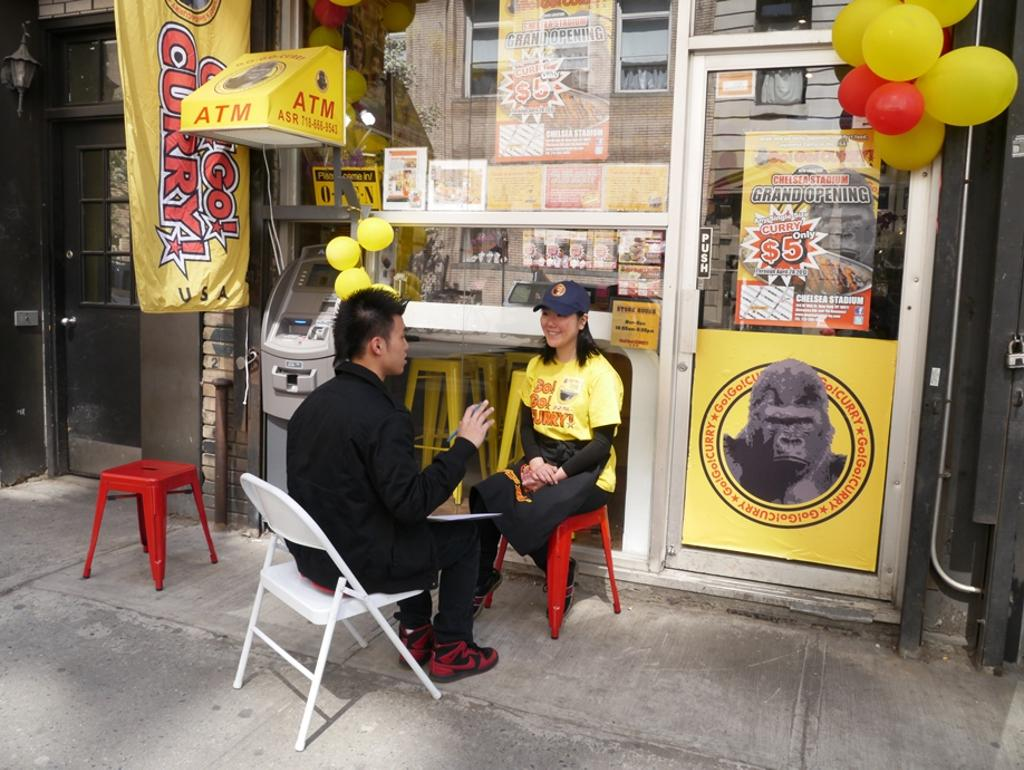face: (539, 302, 577, 347), (381, 316, 408, 375)
